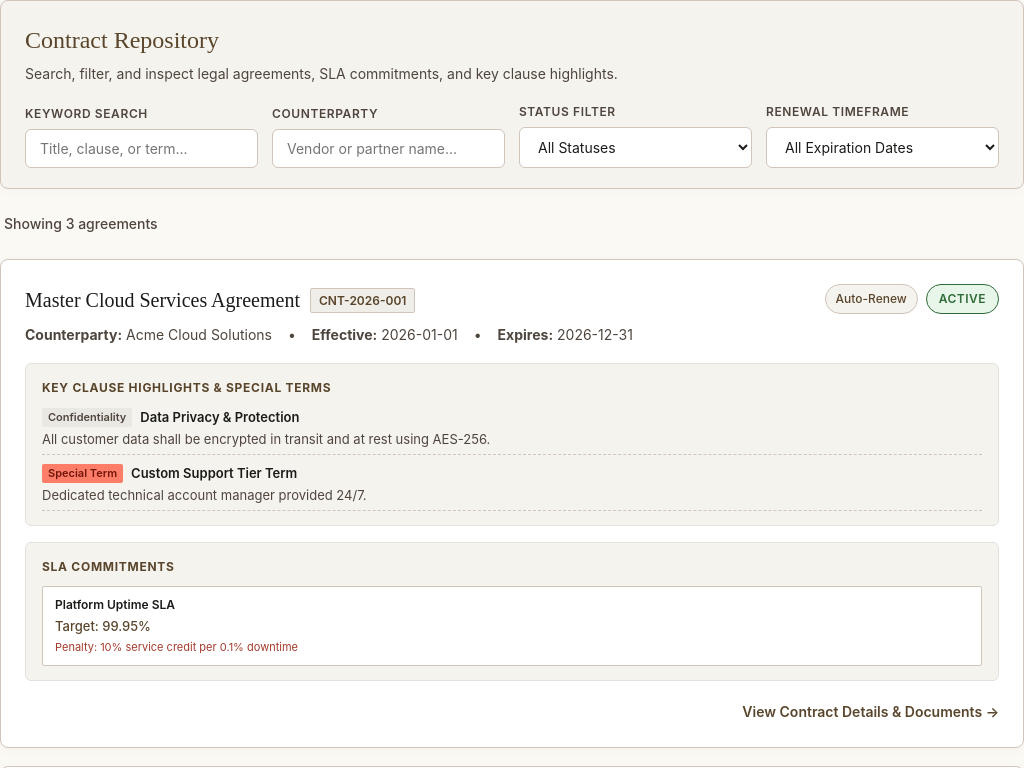
Test: ContractList Component › filters contracts by status dropdown [FR-7]
Select "Active" in the dropdown with test id "status-filter" at (636,148), box [519,127,752,168]
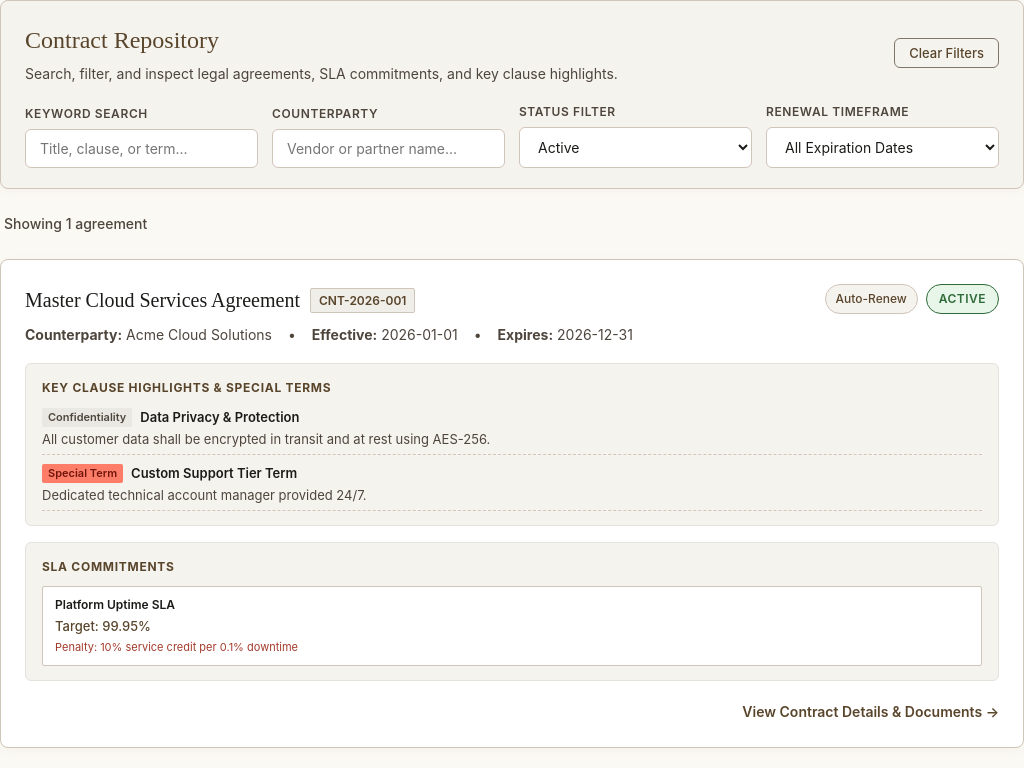
Expected: the heading "Master Cloud Services Agreement" is shown, [25,284,300,316]
Expected: the text with test id "results-count" reads "Showing 1 agreement", [4,215,147,232]
